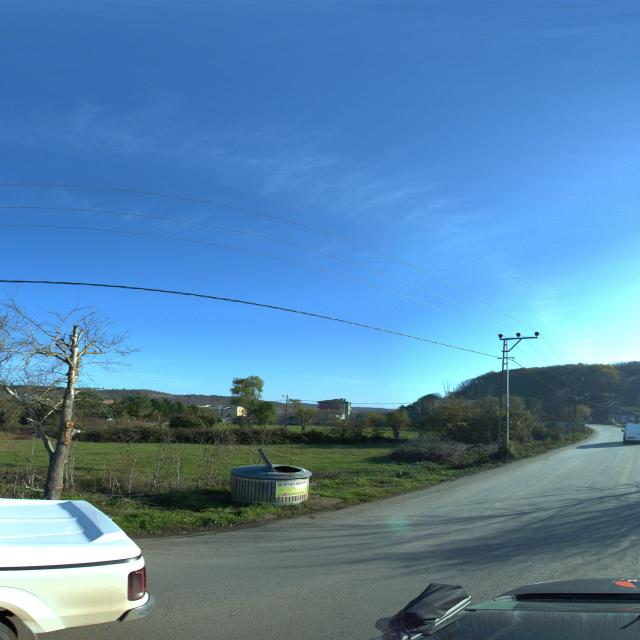Utility Pole Information Plate: (507, 412, 509, 416)
